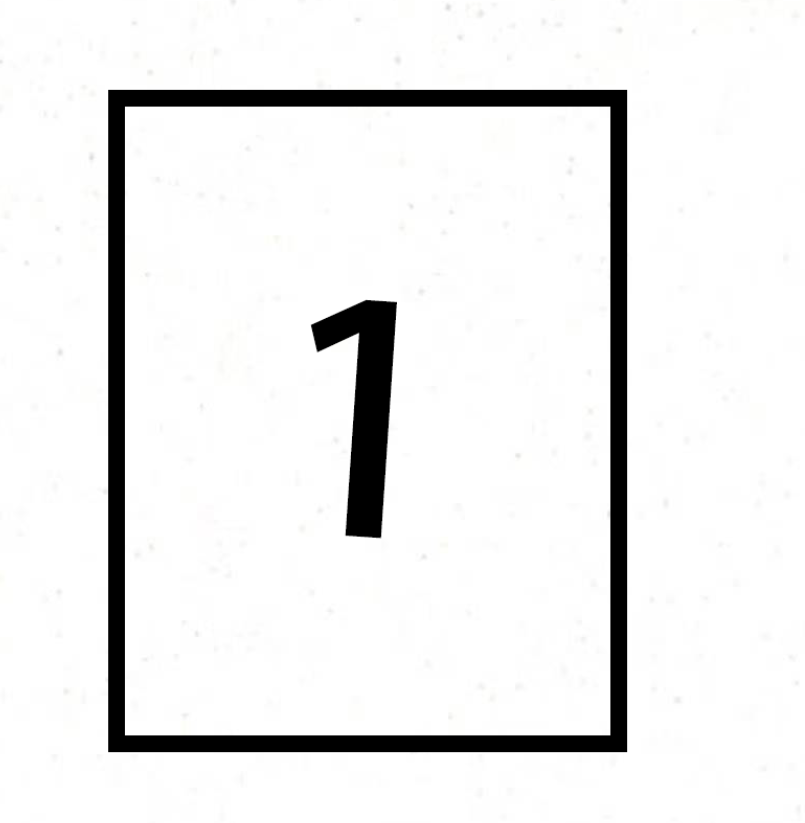one: (176, 164, 577, 677)
